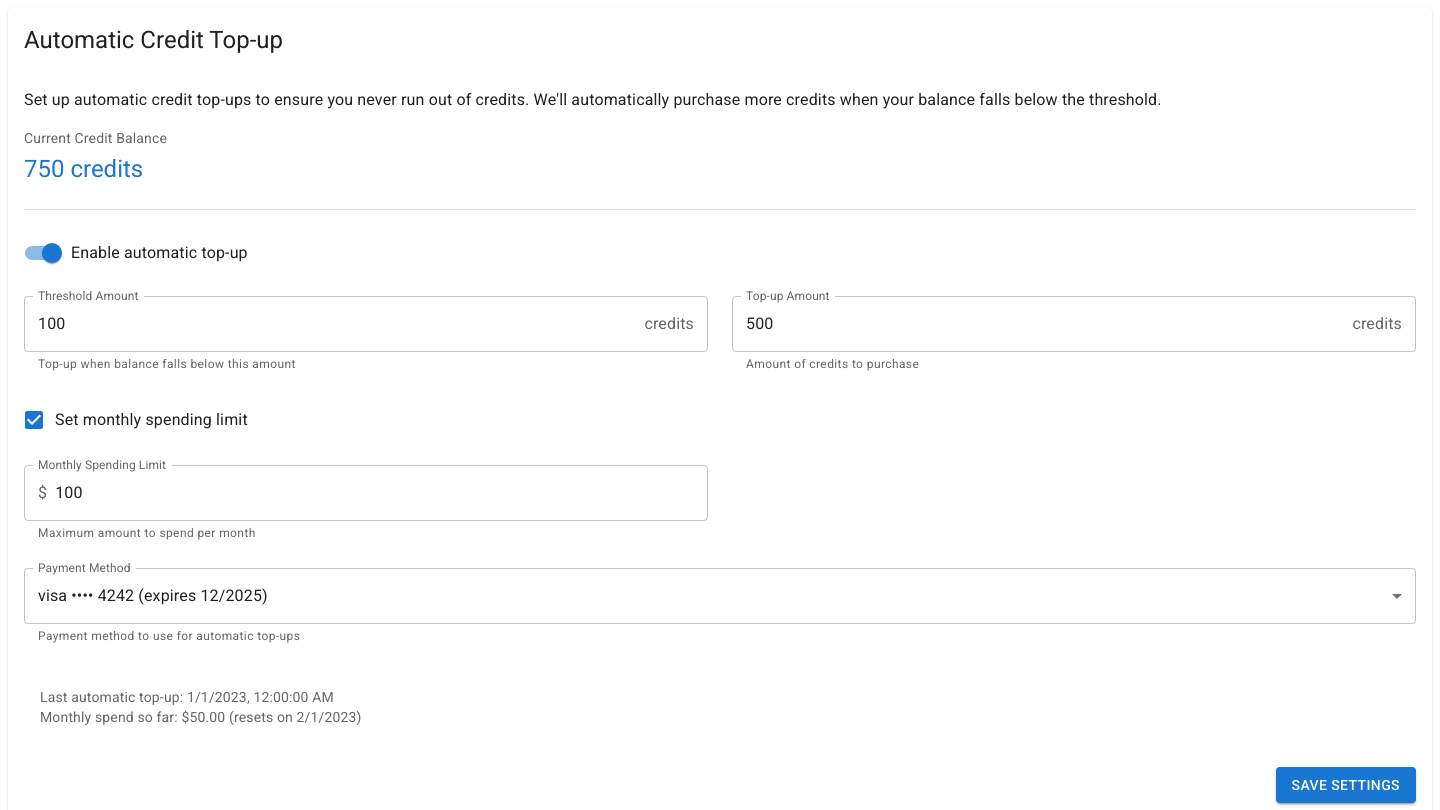
CreditTopupSettings Component › handles form changes correctly
The image size is (1440, 810).
// Change threshold amount
Replace the text in the number field labelled "Threshold Amount" with "200" at (330, 324), box [24,296,636,352]
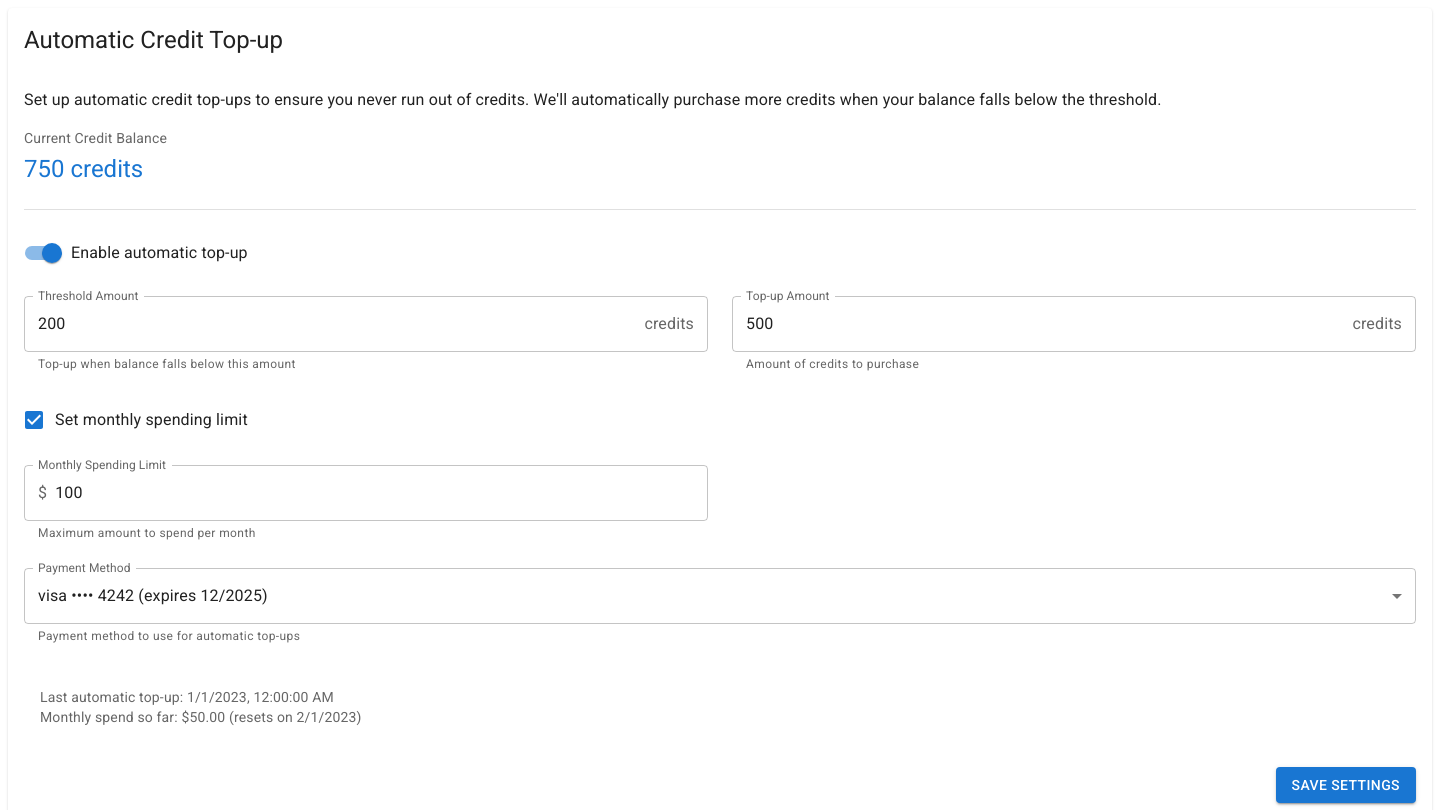
// Change topup amount
Replace the text in the number field labelled "Top-up Amount" with "1000" at (1038, 324), box [732,296,1344,352]
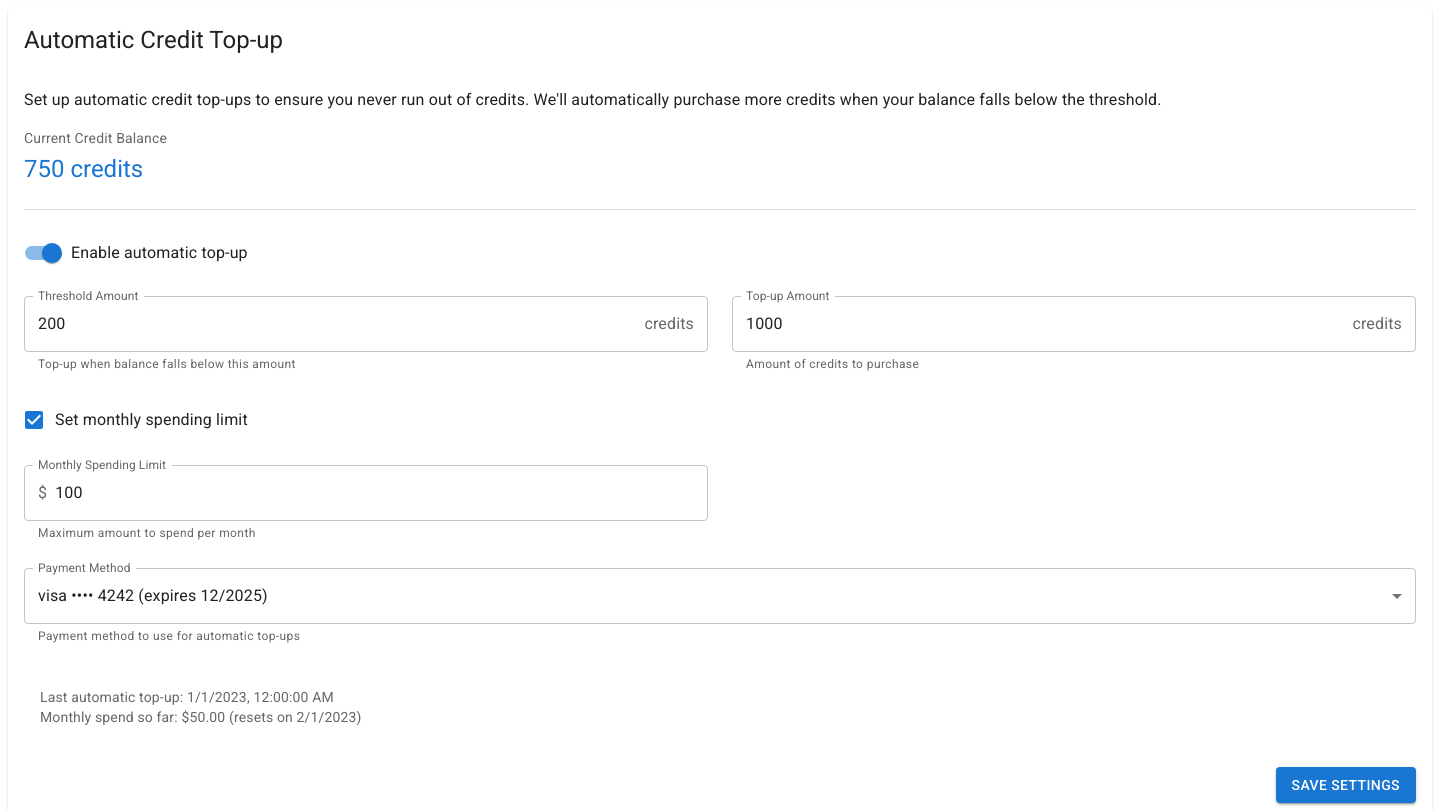
// Change monthly spending limit
Replace the text in the number field labelled "Monthly Spending Limit" with "200" at (382, 493), box [55,465,708,521]
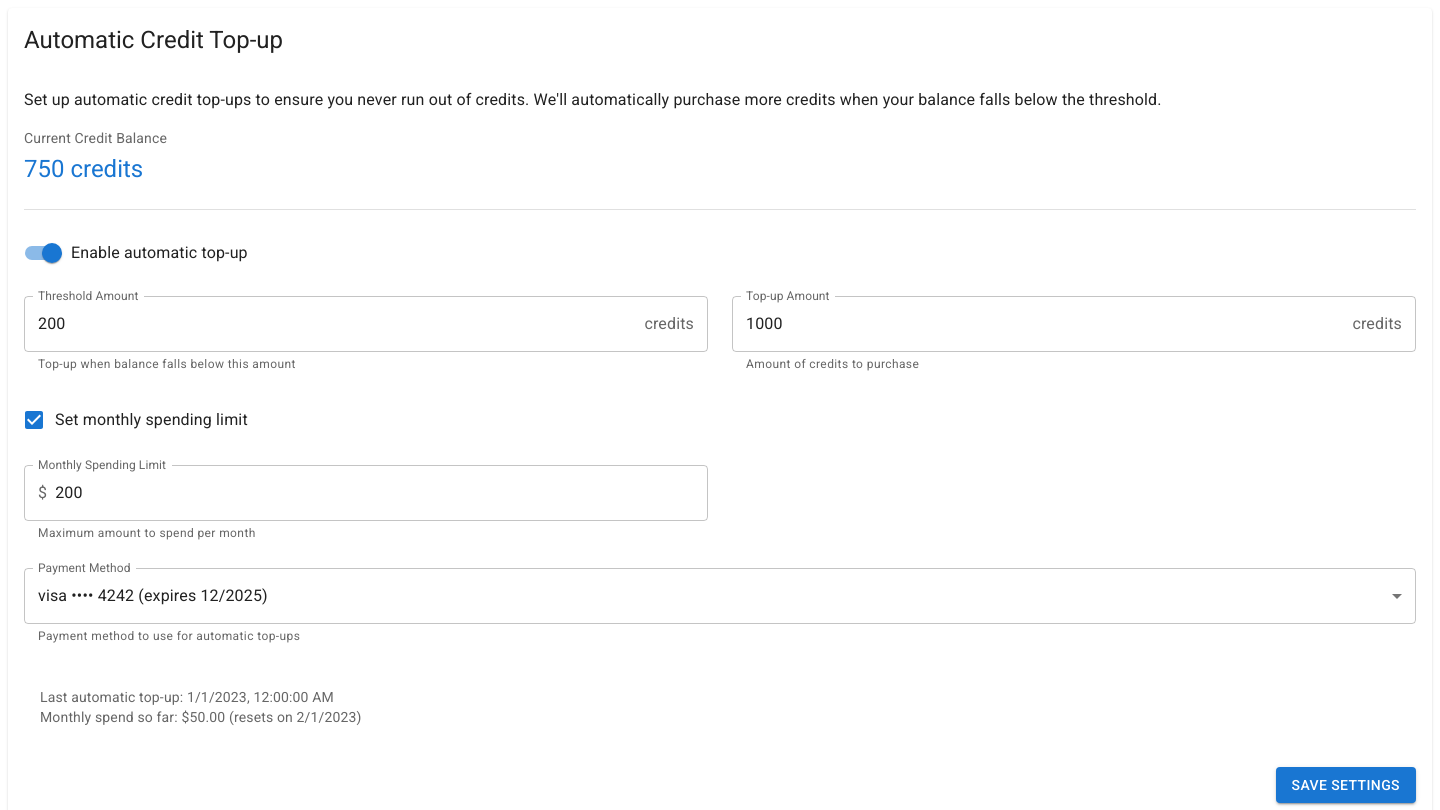
// Disable monthly limit
Click the checkbox labelled "Set monthly spending limit" at (135, 420), box [22,408,248,432]
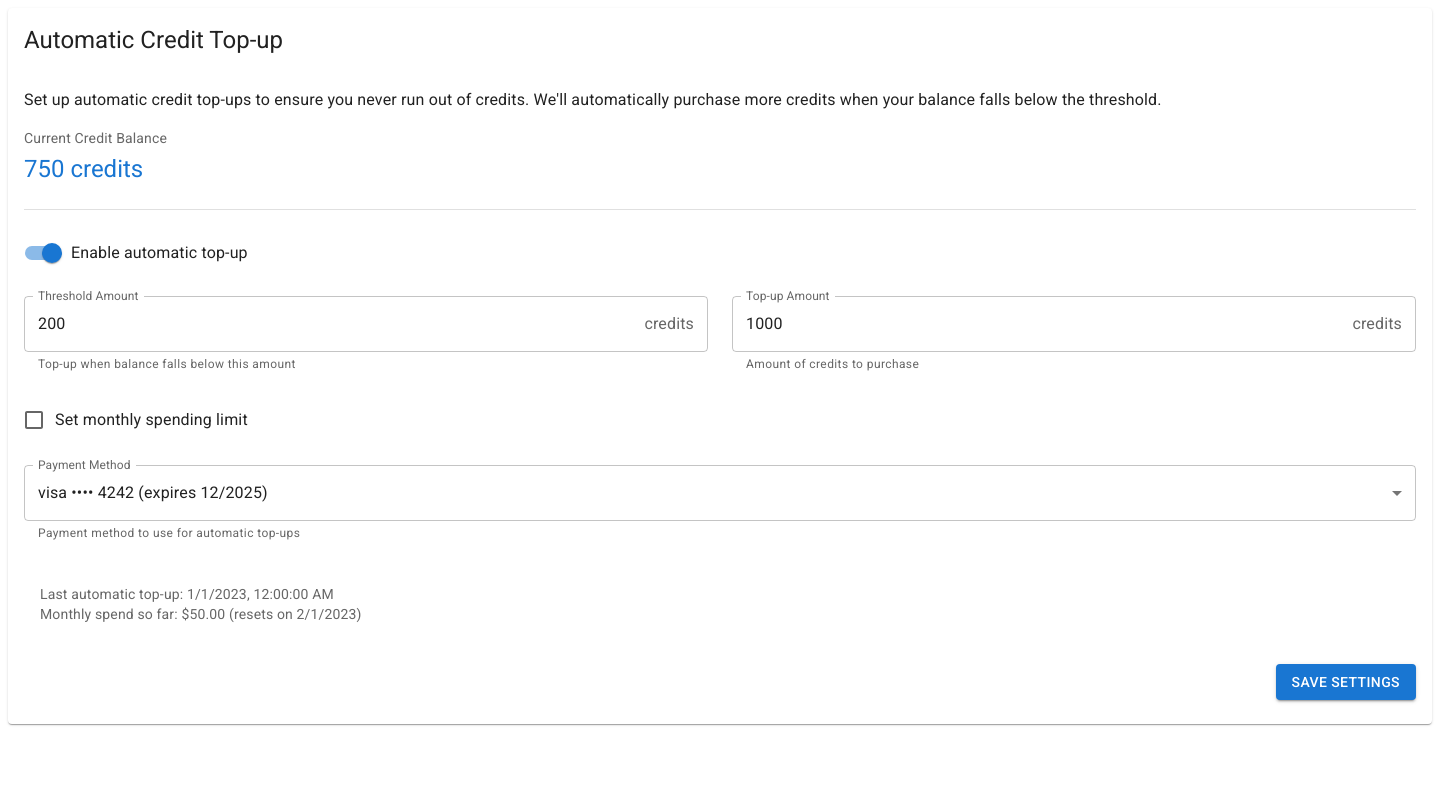
// Disable auto top-up
Click the checkbox labelled "Enable automatic top-up" at (136, 253), box [25,243,248,263]
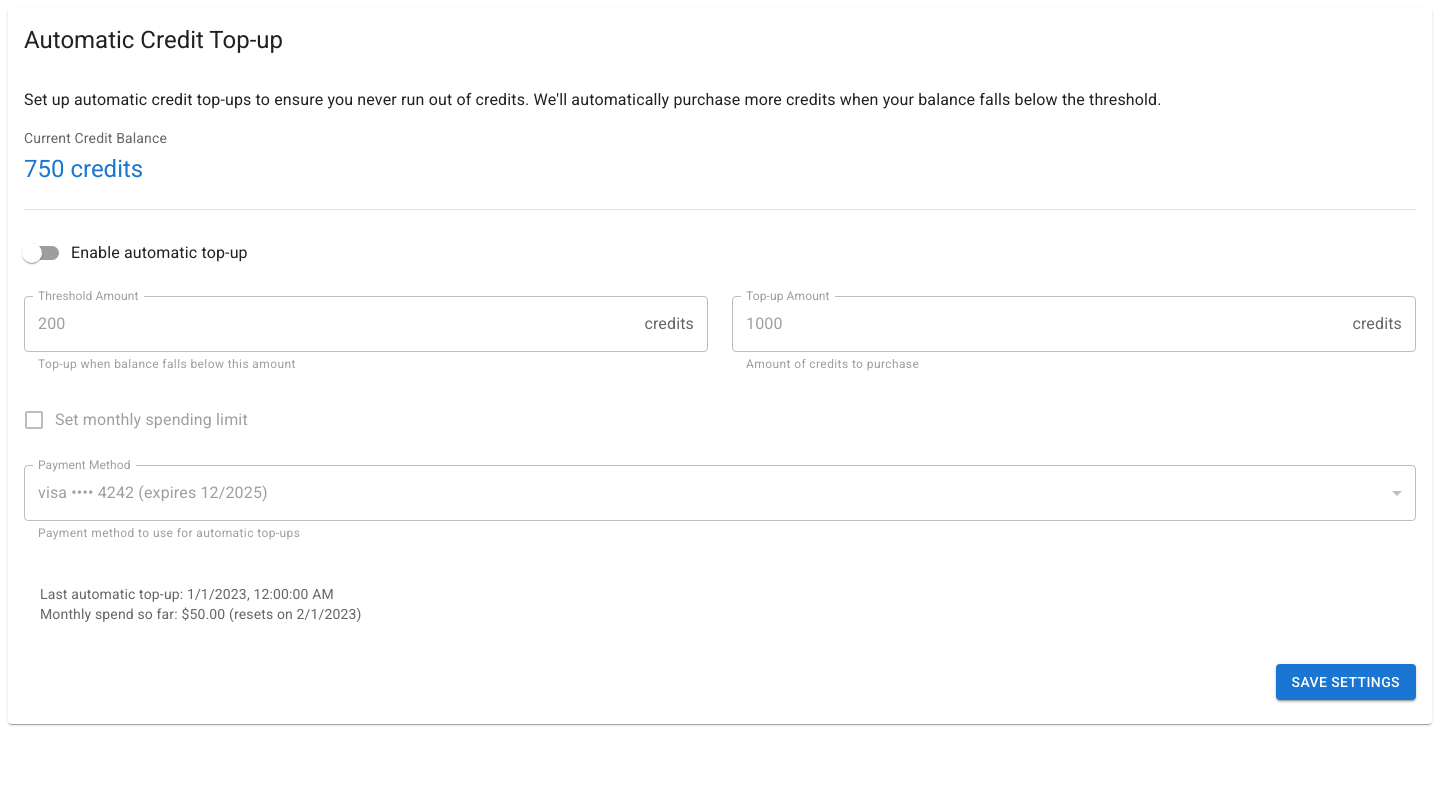
Expected: the number field labelled "Threshold Amount" is disabled, [24,296,636,352]
Expected: the number field labelled "Top-up Amount" is disabled, [732,296,1344,352]
Expected: the checkbox labelled "Set monthly spending limit" is disabled, [22,408,248,432]
